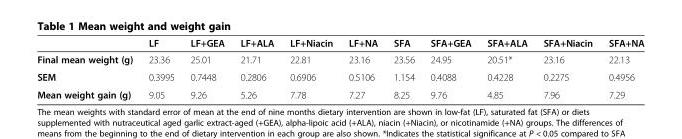table: (36, 36, 643, 100)
table column: (36, 36, 140, 100), (534, 36, 600, 100), (281, 36, 340, 100), (421, 36, 478, 100), (478, 36, 534, 100), (181, 36, 231, 100), (231, 36, 281, 100), (340, 36, 385, 100), (600, 36, 643, 100), (140, 36, 181, 100), (385, 36, 421, 100)
table column header: (36, 36, 643, 50)
table row: (36, 67, 643, 85), (36, 50, 643, 67), (36, 85, 643, 100), (36, 36, 643, 50)
